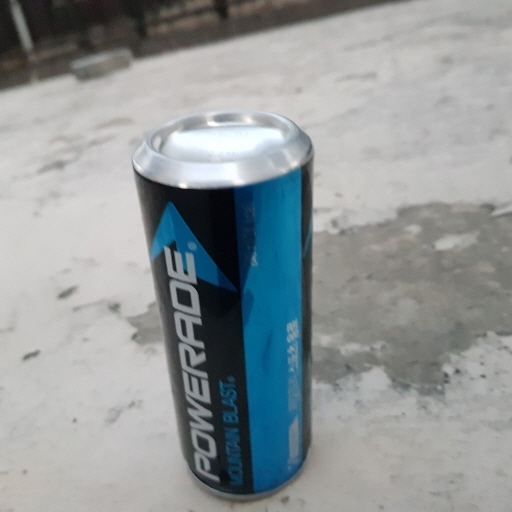Metal_0: (130, 108, 326, 503)
